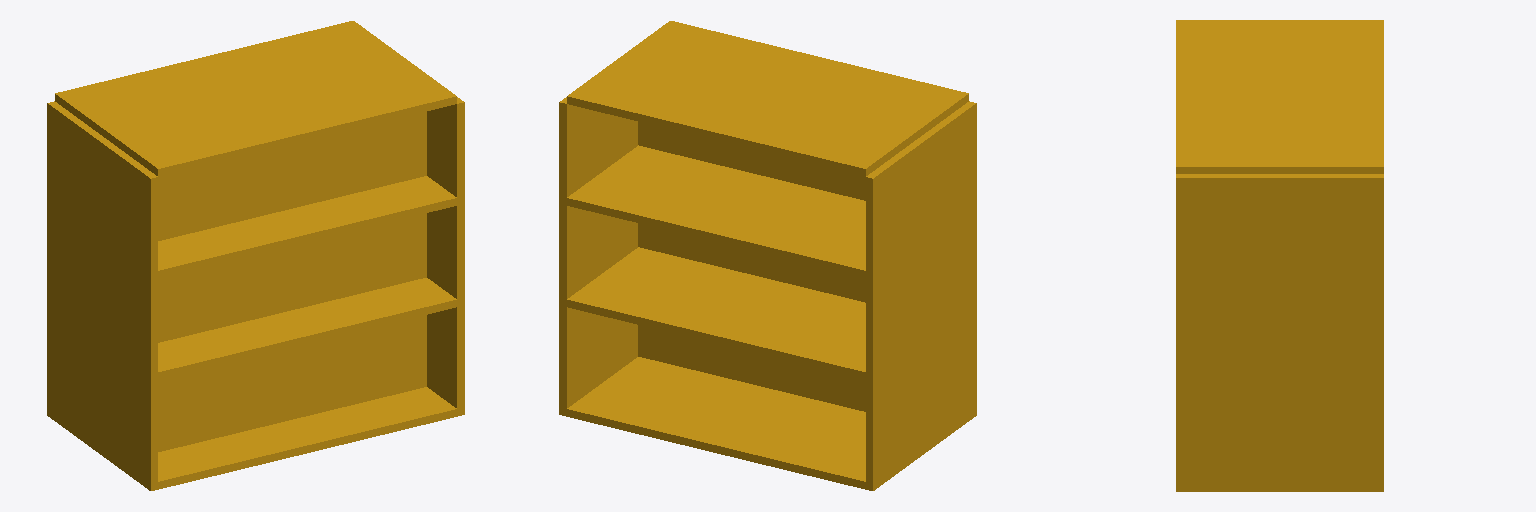
robot.urdf — bookcase:
<robot name="bookcase">

  <material name="wooden">
      <color rgba="0.85 0.65 0.13 1"/>
  </material>

  <link name="base">
    <visual>
      <origin rpy="0 0 0" xyz="0 0 0"/>
      <geometry>
        <box size="2.0 1.2 0.05"/>
      </geometry>
      <material name="wooden"/>
    </visual>
    <collision>
      <origin rpy="0 0 0" xyz="0 0 0"/>
      <geometry>
        <box size="2.0 1.2 0.05"/>
      </geometry>
    </collision>
    <inertial>
      <mass value="0.5"/>
      <inertia ixx="1" ixy="0.0" ixz="0.0" iyy="1" iyz="0.0" izz="1.0"/>
    </inertial>
  </link>

  <joint name="j0" type="fixed">
      <origin rpy="0 0 0" xyz="1 0 -0.025"/>
      <parent link="base"/>
      <child link="rightSide"/>
  </joint>

  <link name="rightSide">
    <visual>
      <origin rpy="0 0 0" xyz="0.025 0 1.0"/>
      <geometry>
        <box size="0.05 1.2 2.0"/>
      </geometry>
      <material name="wooden"/>
    </visual>
    <collision>
      <origin rpy="0 0 0" xyz="0.025 0 1.0"/>
      <geometry>
        <box size="0.05 1.2 2.0"/>
      </geometry>
    </collision>
    <inertial>
      <mass value="1"/>
      <inertia ixx="1" ixy="0.0" ixz="0.0" iyy="1" iyz="0.0" izz="1.0"/>
    </inertial>
  </link>

  <joint name="j1" type="fixed">
    <origin rpy="0 0 0" xyz="-1 0 -0.025"/>
    <parent link="base"/>
    <child link="leftSide"/>
  </joint>

  <link name="leftSide">
    <visual>
      <origin rpy="0 0 0" xyz="-0.025 0 1.0"/>
      <geometry>
        <box size="0.05 1.2 2.0"/>
      </geometry>
      <material name="wooden"/>
    </visual>
    <collision>
      <origin rpy="0 0 0" xyz="-0.025 0 1.0"/>
      <geometry>
        <box size="0.05 1.2 2.0"/>
      </geometry>
    </collision>
    <inertial>
      <mass value="1"/>
      <inertia ixx="1" ixy="0.0" ixz="0.0" iyy="1" iyz="0.0" izz="1.0"/>
    </inertial>
  </link>

  <joint name="j2" type="fixed">
    <origin rpy="0 0 0" xyz="-1 0 0.7"/>
    <parent link="leftSide"/>
    <child link="shelf1"/>
  </joint>

  <link name="shelf1">
    <visual>
      <origin rpy="0 0 0" xyz="2 0 0.025"/>
      <geometry>
        <box size="2.0 1.2 0.05"/>
      </geometry>
      <material name="wooden"/>
    </visual>
    <collision>
      <origin rpy="0 0 0" xyz="2 0 0.025"/>
      <geometry>
        <box size="2.0 1.2 0.05"/>
      </geometry>
    </collision>
    <inertial>
      <mass value="0.5"/>
      <inertia ixx="1.0" ixy="0.0" ixz="0.0" iyy="1.0" iyz="0.0" izz="1.0"/>
    </inertial>
  </link>

  <joint name="j3" type="fixed">
    <origin rpy="0 0 0" xyz="-1 0 1.35"/>
    <parent link="leftSide"/>
    <child link="shelf2"/>
  </joint>

  <link name="shelf2">
    <visual>
      <origin rpy="0 0 0" xyz="2 0 0.025"/>
      <geometry>
        <box size="2.0 1.2 0.05"/>
      </geometry>
      <material name="wooden"/>
    </visual>
    <collision>
      <origin rpy="0 0 0" xyz="2 0 0.025"/>
      <geometry>
        <box size="2.0 1.2 0.05"/>
      </geometry>
    </collision>
    <inertial>
      <mass value="0.5"/>
      <inertia ixx="1.0" ixy="0.0" ixz="0.0" iyy="1.0" iyz="0.0" izz="1.0"/>
    </inertial>
  </link>

  <joint name="j4" type="fixed">
    <origin rpy="0 0 0" xyz="-1 0 2.0"/>
    <parent link="leftSide"/>
    <child link="shelf3"/>
  </joint>

  <link name="shelf3">
    <visual>
      <origin rpy="0 0 0" xyz="2 0 0.025"/>
      <geometry>
        <box size="2.0 1.2 0.05"/>
      </geometry>
      <material name="wooden"/>
    </visual>
    <collision>
      <origin rpy="0 0 0" xyz="2 0 0.025"/>
      <geometry>
        <box size="2.0 1.2 0.05"/>
      </geometry>
    </collision>
    <inertial>
      <mass value="0.5"/>
      <inertia ixx="1.0" ixy="0.0" ixz="0.0" iyy="1.0" iyz="0.0" izz="1.0"/>
    </inertial>
  </link>

  <joint name="j6" type="fixed">
    <origin rpy="0 0 0" xyz="0 -0.25 -0.025"/>
    <parent link="base"/>
    <child link="back"/>
  </joint>

  <link name="back">
    <visual>
      <origin rpy="0 0 0" xyz="0 .01 1.0"/>
      <geometry>
        <box size="2.1 0.02 2.0"/>
      </geometry>
      <material name="wooden"/>
    </visual>
    <collision>
      <origin rpy="0 0 0" xyz="0 .01 1.0"/>
      <geometry>
        <box size="2.1 0.02 2.0"/>
      </geometry>
    </collision>
    <inertial>
      <mass value="1.5"/>
      <inertia ixx="1.0" ixy="0.0" ixz="0.0" iyy="1.0" iyz="0.0" izz="1.0"/>
    </inertial>
  </link>

</robot>

--- What the picture shows (computed from the rendered views, not written in the file) ---
Views: 3 orthographic renders of the robot side by side, from view 1: azimuth 30°, elevation 25°; view 2: azimuth 150°, elevation 25°; view 3: azimuth 270°, elevation 25°.
Model bookcase with 7 links and 6 joints (6 fixed), rooted at base, posed every joint at zero.
Links seen in each view (by area): view 1: back, leftSide, shelf3, base, shelf2, shelf1, rightSide; view 2: leftSide, shelf3, shelf2, base, shelf1, back, rightSide; view 3: rightSide, shelf3.
Link boxes in pixels (x1,y1,x2,y2): back: (119,112,426,468); leftSide: (47,101,157,490); shelf3: (55,21,456,176); base: (158,387,456,489); shelf2: (158,176,456,278); shelf1: (158,278,456,379); rightSide: (427,97,464,416); leftSide: (866,101,976,490); shelf3: (567,21,968,176); shelf2: (567,145,865,278); base: (567,357,865,489); shelf1: (567,247,865,379); back: (638,122,944,411); rightSide: (559,97,637,416); rightSide: (1176,174,1383,491); shelf3: (1176,20,1383,173).
Bounding box of the posed robot: 2.1 × 1.2 × 2.05 m (x, y, z).
Geometry: primitives only (box / cylinder / sphere), no mesh files.